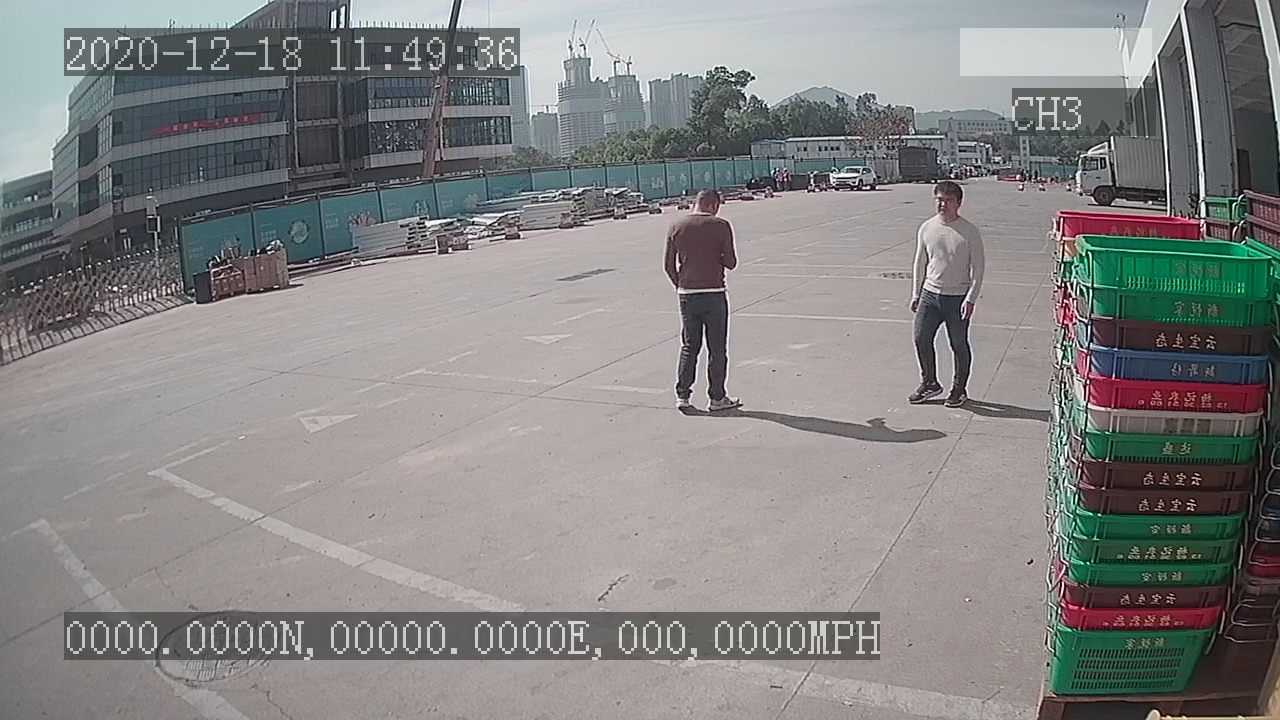person: (656, 185, 743, 417), (904, 177, 988, 411)
